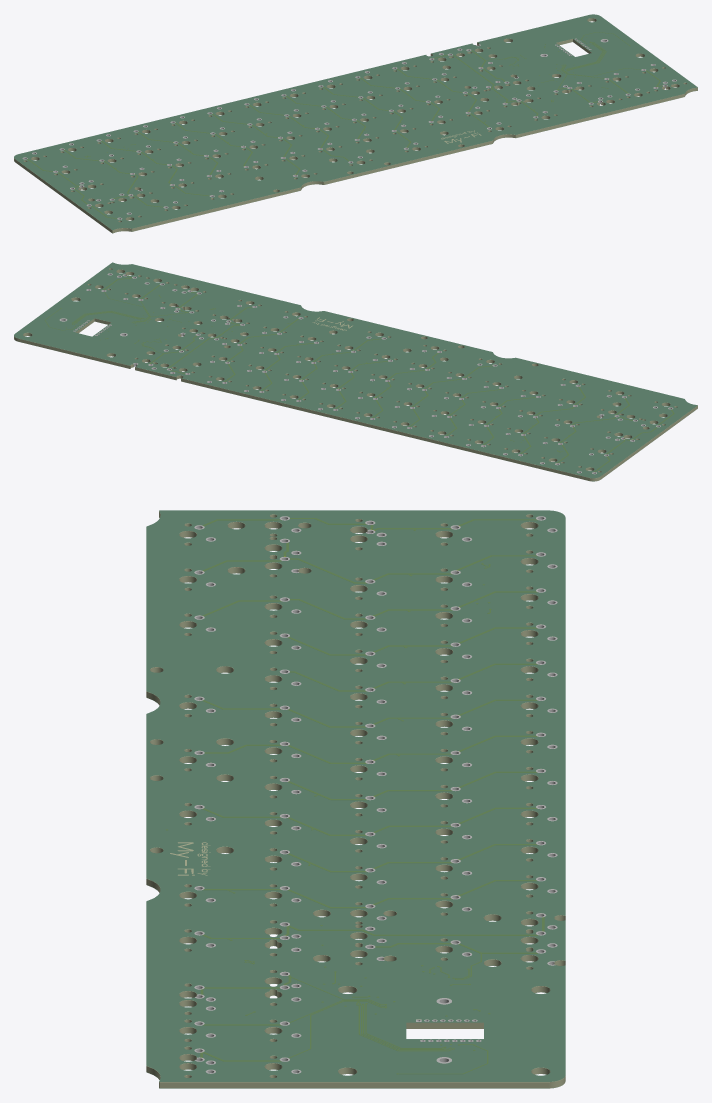
The picture shows the model from 3 angles, top to bottom: view 1: azimuth 30°, elevation 25°; view 2: azimuth 150°, elevation 25°; view 3: azimuth 270°, elevation 25°; orthographic projection. The views are drawn at different scales.
Visible parts, largest first — view 1: =>[0:1:1:6], =>[0:1:1:8], =>[0:1:1:3], =>[0:1:1:2]; view 2: =>[0:1:1:6], =>[0:1:1:8], =>[0:1:1:3], =>[0:1:1:2]; view 3: =>[0:1:1:6], =>[0:1:1:8], =>[0:1:1:3], =>[0:1:1:2], =>[0:1:1:7].
Boxes of the visible parts, x1=… form: =>[0:1:1:6]: x1=14, y1=14, x2=697, y2=230; =>[0:1:1:8]: x1=14, y1=15, x2=697, y2=233; =>[0:1:1:3]: x1=22, y1=38, x2=676, y2=219; =>[0:1:1:2]: x1=28, y1=42, x2=659, y2=216; =>[0:1:1:6]: x1=14, y1=262, x2=697, y2=478; =>[0:1:1:8]: x1=14, y1=263, x2=697, y2=481; =>[0:1:1:3]: x1=59, y1=273, x2=673, y2=474; =>[0:1:1:2]: x1=104, y1=277, x2=673, y2=470; =>[0:1:1:6]: x1=146, y1=510, x2=565, y2=1081; =>[0:1:1:8]: x1=146, y1=511, x2=565, y2=1088; =>[0:1:1:3]: x1=194, y1=516, x2=557, y2=1073; =>[0:1:1:2]: x1=201, y1=518, x2=543, y2=1072; =>[0:1:1:7]: x1=146, y1=528, x2=562, y2=1088.
Size of the model in its own units: 0.3017 by 0.00164 by 0.0935.
